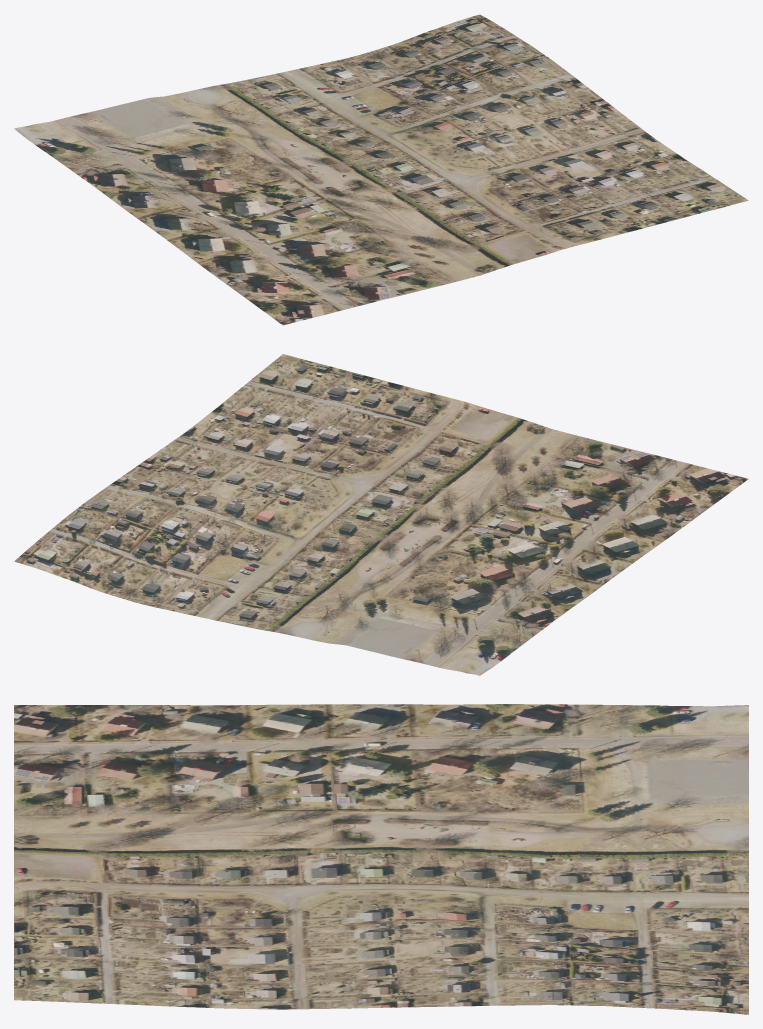
Rendered from CM_Terrain_24489844_6818770.fbx.
The picture shows the model from 3 angles, top to bottom: view 1: azimuth 30°, elevation 25°; view 2: azimuth 150°, elevation 25°; view 3: azimuth 270°, elevation 25°; orthographic projection. The views are drawn at different scales.
Parts seen in each view (by area): view 1: CM_Terrain_24489844_6818770_LOD0; view 2: CM_Terrain_24489844_6818770_LOD0; view 3: CM_Terrain_24489844_6818770_LOD0.
Part boxes in pixels (left/top/right/bottom): CM_Terrain_24489844_6818770_LOD0: left=14, top=14, right=748, bottom=325; CM_Terrain_24489844_6818770_LOD0: left=14, top=354, right=748, bottom=675; CM_Terrain_24489844_6818770_LOD0: left=14, top=704, right=748, bottom=1014.
Size of what is drawn, in the model's own units: 205 by 9.27 by 205.
